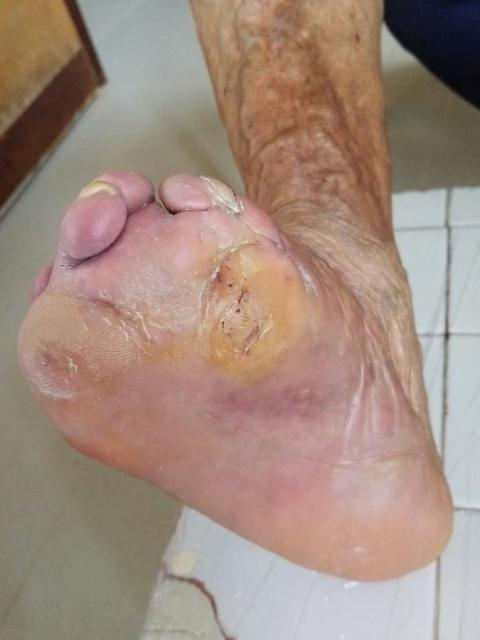wound: (207, 253, 275, 355), (84, 295, 150, 344)
